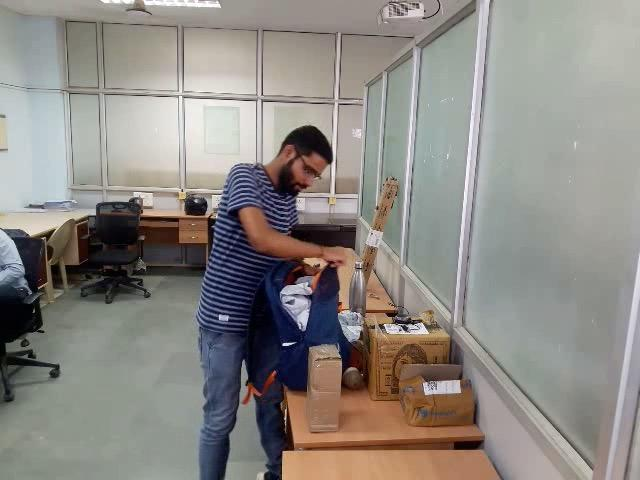shoplifting: (253, 225, 367, 399)
